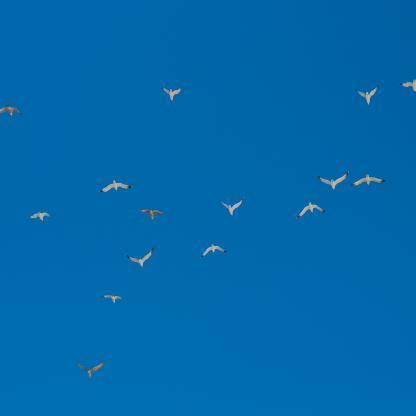bird: (319, 171, 348, 190), (126, 249, 153, 268), (76, 362, 104, 378), (351, 174, 386, 186), (297, 201, 324, 216), (356, 86, 378, 104), (100, 180, 131, 192), (220, 200, 243, 216), (201, 244, 226, 256), (162, 87, 182, 102), (399, 79, 416, 92), (140, 209, 161, 219), (0, 106, 19, 117), (29, 212, 49, 222), (102, 294, 122, 303)
